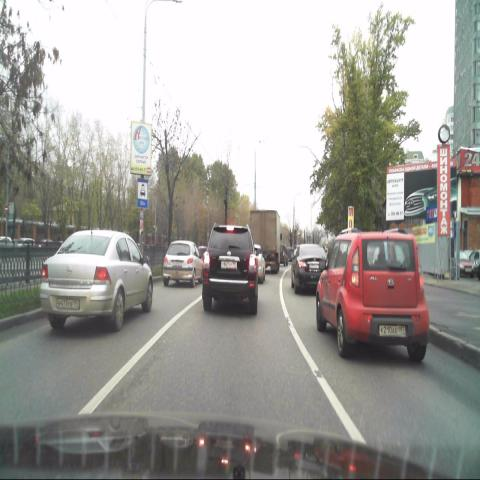7_5: (137, 176, 148, 208)
